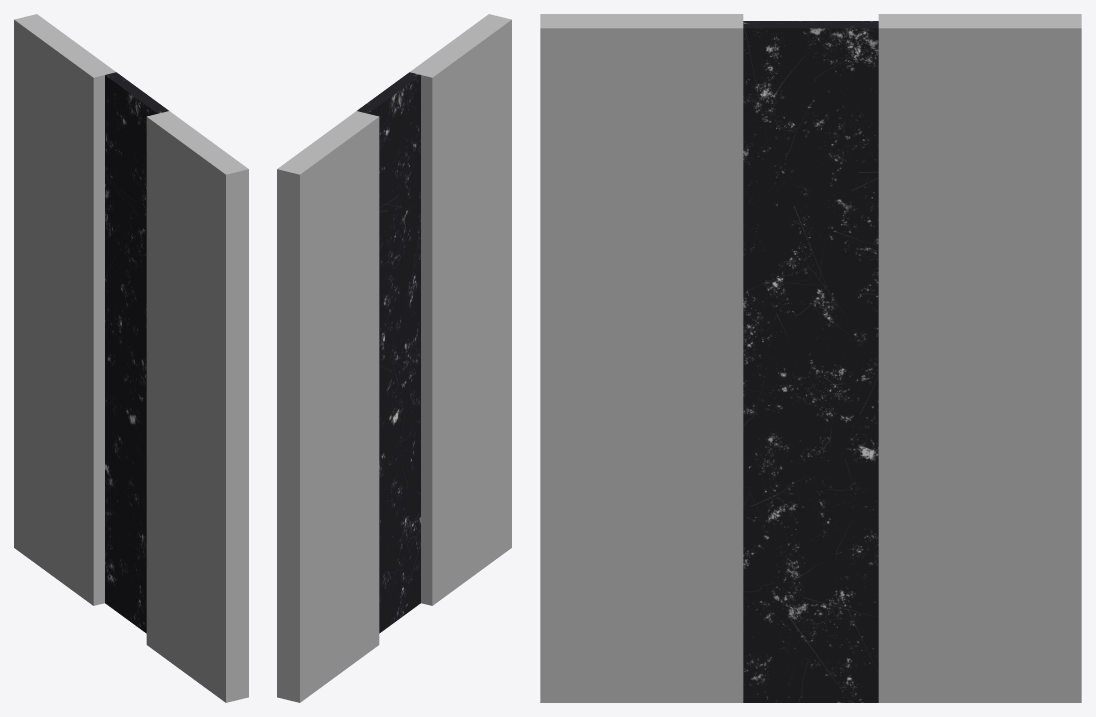
The model's file is Site19_Wall_LCZ3.gltf.
The picture shows the model from 3 angles, left to right: view 1: azimuth 30°, elevation 25°; view 2: azimuth 150°, elevation 25°; view 3: azimuth 270°, elevation 25°; orthographic projection. The views are drawn at different scales.
Parts seen in each view (by area): view 1: site19_wall_cb_modern; view 2: site19_wall_cb_modern; view 3: site19_wall_cb_modern.
Boxes of the visible parts, <box> form: site19_wall_cb_modern: <box>14,14,248,702</box>; site19_wall_cb_modern: <box>277,14,511,702</box>; site19_wall_cb_modern: <box>540,14,1081,702</box>.
Bounding box in the file's own units: 0.32 × 7.04 × 5.12.
Materials: 2 (1 with a texture image).
